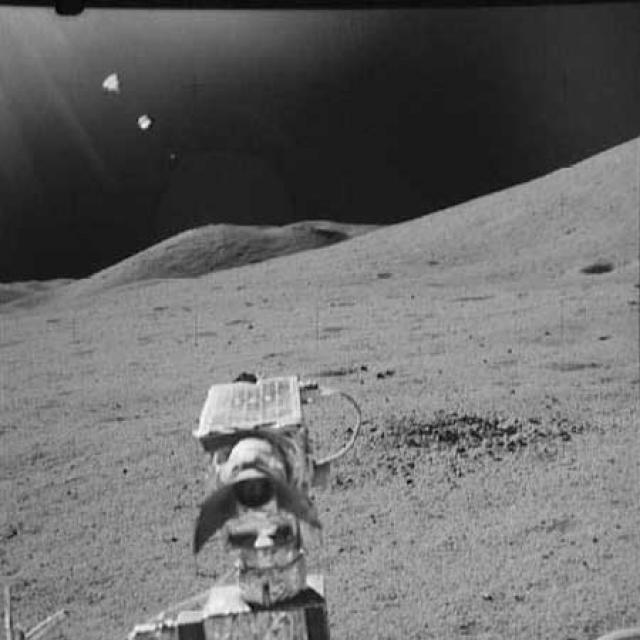artifact: (112, 340, 382, 638)
crater: (573, 244, 639, 282)
